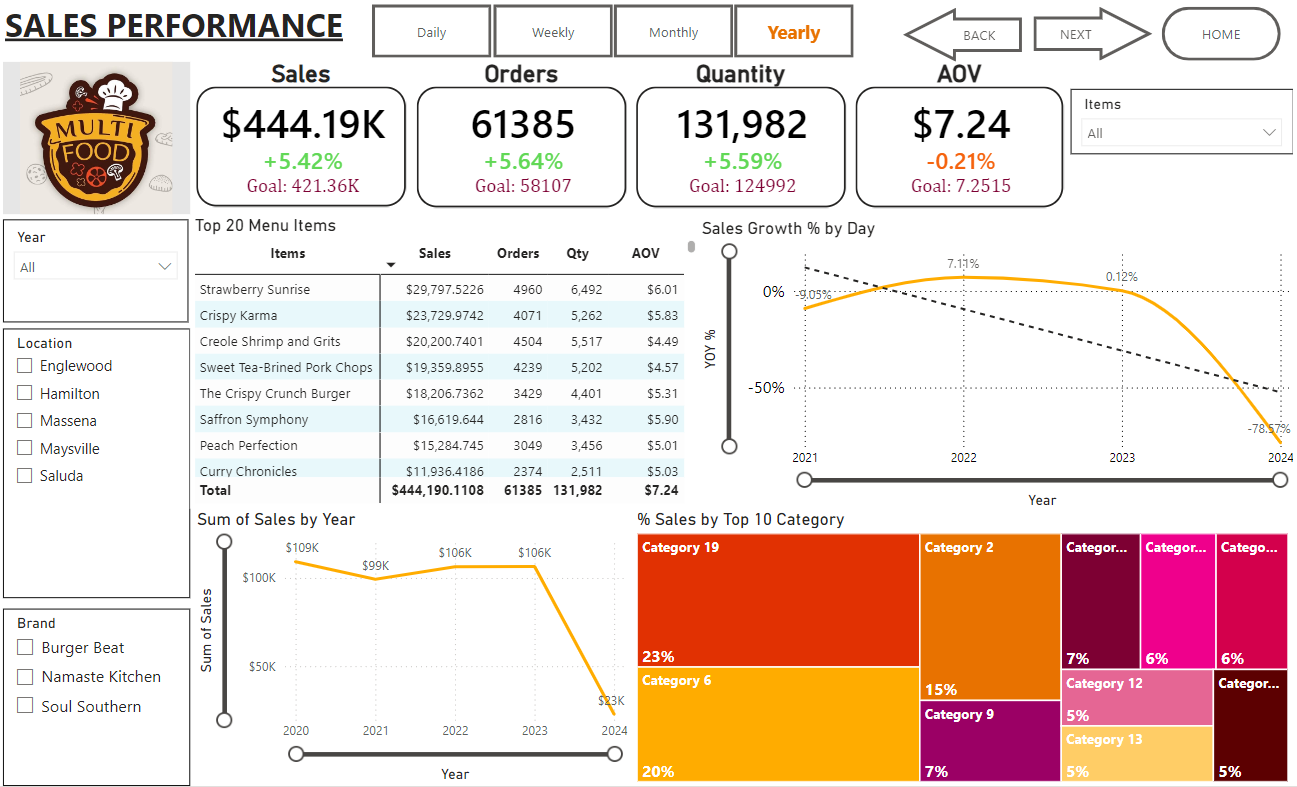

The page's visual inventory and layout, read from the dashboard file:
{"tool":"powerbi","page":{"name":"YEARLY SALES PERFORMANCE","canvas":[1280,780],"ordinal":3},"visuals":[{"type":"PBI_CV_7B952816_A48F_49B4_9E13_15E3BB2C0337","title":"Sales","fields":{"Values":["Sum(sales_data.Total Price)"],"target":["Live Data.Previous Year Revenue"]},"box":[186.6,59.6,218.2,150.9],"z":0},{"type":"treemap","title":"% Sales by Top 10 Category","fields":{"Values":["Sum(Live Data.Sales)"],"Group":["Live Data.Category"]},"box":[624.3,504.3,655.7,275.7],"z":1000},{"type":"slicer","fields":{"Values":["sales_data.Location"]},"box":[0,325.7,185.7,267.1],"z":2000},{"type":"PBI_CV_7B952816_A48F_49B4_9E13_15E3BB2C0337","title":"Orders","fields":{"Values":["Count(sales_data.Order ID)"],"target":["Live Data.Previous Year Orders"]},"box":[404.8,59.6,218.2,152.3],"z":3000},{"type":"PBI_CV_7B952816_A48F_49B4_9E13_15E3BB2C0337","title":"Quantity","fields":{"Values":["Sum(sales_data.Quantity)"],"target":["Live Data.Previous Year Quantity"]},"box":[623,59,218.2,152.3],"z":4000},{"type":"PBI_CV_7B952816_A48F_49B4_9E13_15E3BB2C0337","title":"AOV","fields":{"Values":["sales_data.AOV"],"target":["Live Data.Previous Year AOV"]},"box":[840.5,58.9,216.8,152.6],"z":5000},{"type":"lineChart","title":"Sales Growth % by Day","fields":{"Y":["Live Data.YOY %"],"Category":["Live Data.Date.Variation.Date Hierarchy.Year"]},"box":[692.9,217.1,587.1,287.1],"z":6000},{"type":"actionButton","box":[1149.9,6.9,118,53.5],"z":7000},{"type":"slicer","fields":{"Values":["Live Data.Food Name"]},"box":[1059.1,87.8,220.9,64.5],"z":8000},{"type":"textbox","box":[0,0,365.7,58.6],"z":9000},{"type":"actionButton","box":[1022.3,6.9,118,53.5],"z":10000},{"type":"actionButton","box":[893.3,8.2,118,53.5],"z":11000},{"type":"slicer","title":"Date","fields":{"Values":["Live Data.Date.Variation.Date Hierarchy.Year"]},"box":[0,217.2,184.1,102],"z":12000},{"type":"lineChart","fields":{"Category":["Live Data.Date.Variation.Date Hierarchy.Year"],"Y":["Sum(Live Data.Sales)"]},"box":[187.1,504.3,437.1,275.7],"z":13000},{"type":"slicer","fields":{"Values":["sales_data.Brand"]},"box":[0,604.3,185.7,175.7],"z":14000},{"type":"actionButton","box":[365.7,4.3,118.6,52.9],"z":15000},{"type":"actionButton","box":[486.3,4.5,118.6,52.9],"z":16000},{"type":"actionButton","box":[606.1,4.2,118.6,52.9],"z":17000},{"type":"actionButton","box":[725.7,4.3,118.6,52.9],"z":18000},{"type":"image","box":[0,61.4,185.7,151.4],"z":19000},{"type":"pivotTable","title":"Top 20 Menu Items","fields":{"Values":["Sum(Live Data.Sales)","Count(Live Data.Order ID)","Sum(Live Data.Quantity)","Live Data.AOV"],"Rows":["Live Data.Food Name"]},"box":[185.7,212.9,507.1,291.4],"z":20000}]}

Visuals, with their boxes in screenshot pixels (x1, y1, x2, y2), scaled from the page's 1280x780 canvas onto the 1297x787 screenshot:
"Sales" PBI_CV_7B952816_A48F_49B4_9E13_15E3BB2C0337: Rect(189, 60, 410, 212)
"% Sales by Top 10 Category" treemap: Rect(633, 509, 1296, 786)
slicer - sales_data.Location: Rect(0, 329, 188, 598)
"Orders" PBI_CV_7B952816_A48F_49B4_9E13_15E3BB2C0337: Rect(410, 60, 631, 214)
"Quantity" PBI_CV_7B952816_A48F_49B4_9E13_15E3BB2C0337: Rect(631, 60, 852, 213)
"AOV" PBI_CV_7B952816_A48F_49B4_9E13_15E3BB2C0337: Rect(852, 59, 1071, 213)
"Sales Growth % by Day" lineChart: Rect(702, 219, 1296, 509)
actionButton: Rect(1165, 7, 1285, 61)
slicer - Live Data.Food Name: Rect(1073, 89, 1296, 154)
textbox: Rect(0, 0, 371, 59)
actionButton: Rect(1036, 7, 1155, 61)
actionButton: Rect(905, 8, 1025, 62)
"Date" slicer: Rect(0, 219, 187, 322)
lineChart - Live Data.Date.Variation.Date Hierarchy.Year x Sum(Live Data.Sales): Rect(190, 509, 632, 786)
slicer - sales_data.Brand: Rect(0, 610, 188, 786)
actionButton: Rect(371, 4, 491, 58)
actionButton: Rect(493, 5, 613, 58)
actionButton: Rect(614, 4, 734, 58)
actionButton: Rect(735, 4, 856, 58)
image: Rect(0, 62, 188, 215)
"Top 20 Menu Items" pivotTable: Rect(188, 215, 702, 509)
